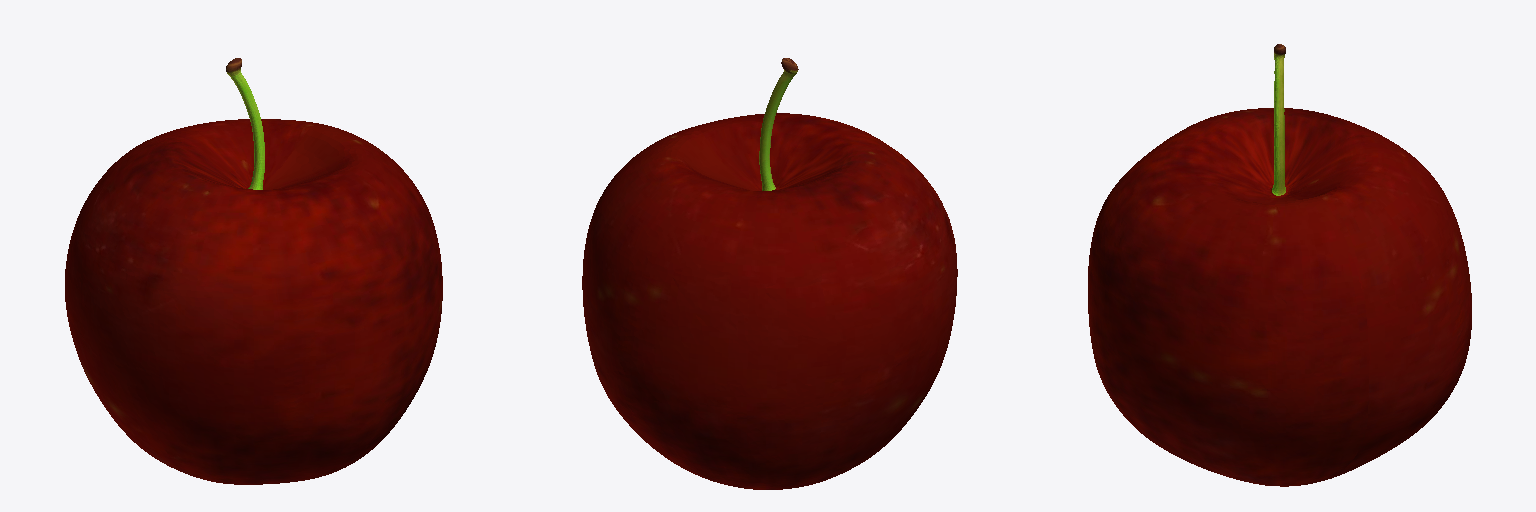
3 views of the same model, side by side, from view 1: azimuth 30°, elevation 25°; view 2: azimuth 150°, elevation 25°; view 3: azimuth 270°, elevation 25° (orthographic).
Bounding box in the file's own units: 0.8584 × 1 × 0.8607.
Materials: 1 (1 with a texture image).